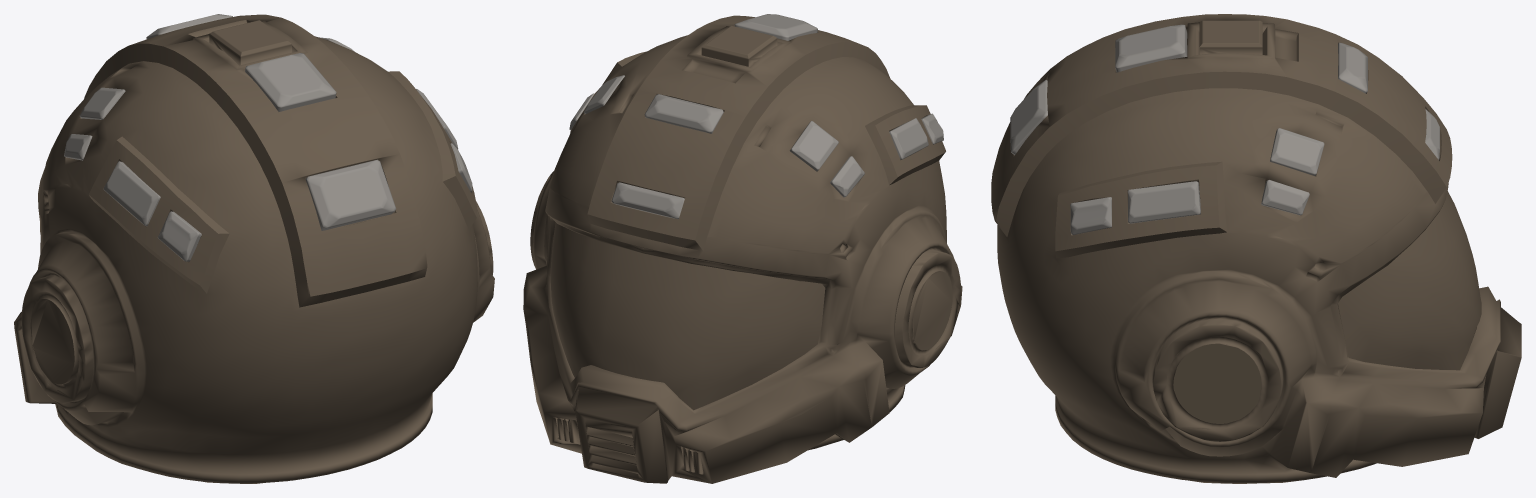
The model's file is Player_Helmet_01_FBX.fbx.
3 views of the same model, side by side, from view 1: azimuth 30°, elevation 25°; view 2: azimuth 150°, elevation 25°; view 3: azimuth 270°, elevation 25° (orthographic). The views are drawn at different scales.
Parts seen in each view (by area): view 1: Player_Helmet_01, Player_Helmet_Crystal; view 2: Player_Helmet_01, Player_Helmet_Glass, Player_Helmet_Crystal; view 3: Player_Helmet_01, Player_Helmet_Glass, Player_Helmet_Crystal.
Boxes of the visible parts, x1,y1,x2,y2 form: Player_Helmet_01: (14,14,494,483); Player_Helmet_Crystal: (64,14,472,261); Player_Helmet_01: (523,15,962,483); Player_Helmet_Glass: (550,222,825,410); Player_Helmet_Crystal: (569,14,943,219); Player_Helmet_01: (991,14,1521,483); Player_Helmet_Glass: (1338,191,1481,370); Player_Helmet_Crystal: (1010,24,1439,234).
Bounding box in the file's own units: 0.8891 × 0.7985 × 0.9932.
